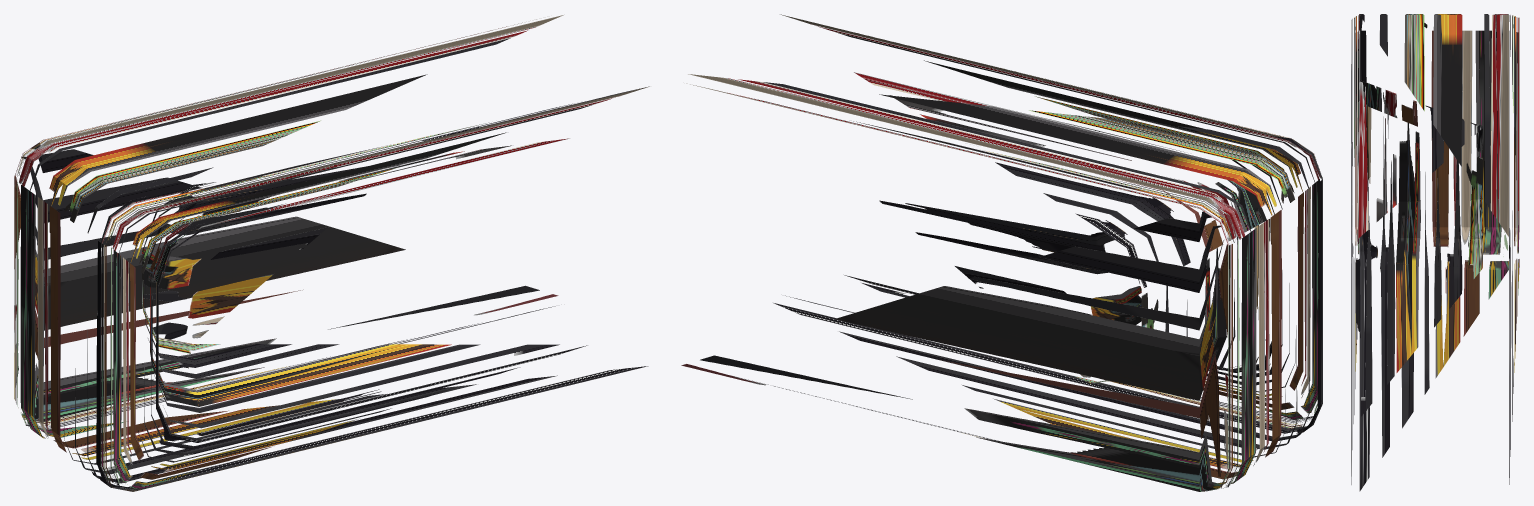
The picture shows the model from 3 angles, left to right: view 1: azimuth 30°, elevation 25°; view 2: azimuth 150°, elevation 25°; view 3: azimuth 270°, elevation 25°; orthographic projection. The views are drawn at different scales.
Bounding box in the file's own units: 1.83 × 0.92 × 0.55.
